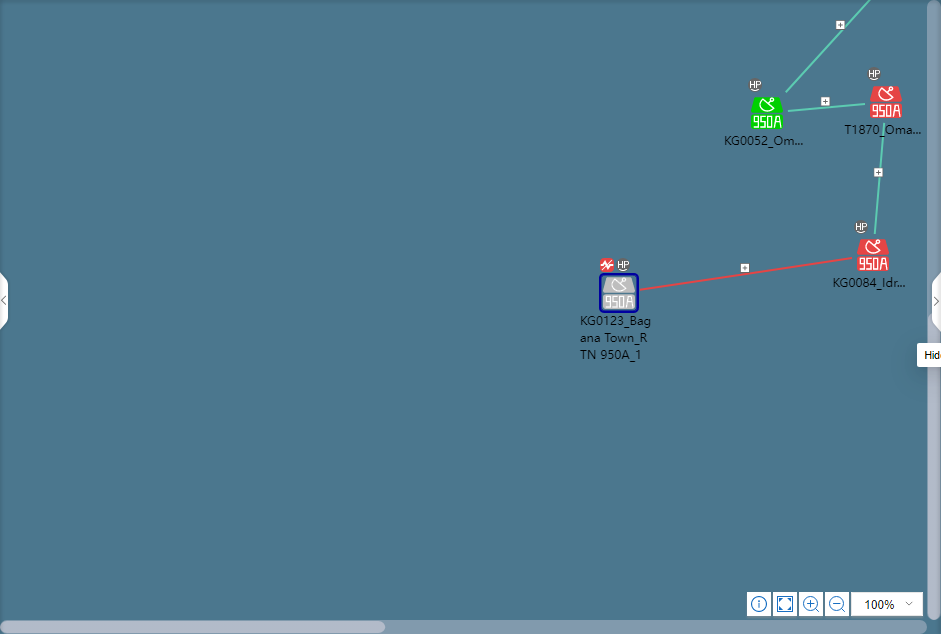Link_Blue: (785, 0, 871, 94), (873, 123, 886, 234), (787, 102, 865, 113)
Link_Red: (640, 256, 852, 292)
RTN_Gray: (600, 275, 637, 311)
RTN_Red: (870, 86, 901, 118), (857, 239, 888, 271), (751, 97, 782, 128)
